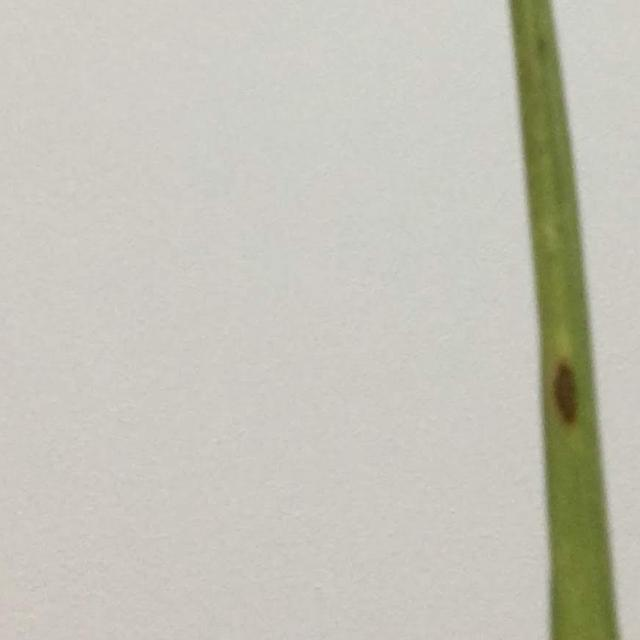Blast: (552, 359, 580, 429)
